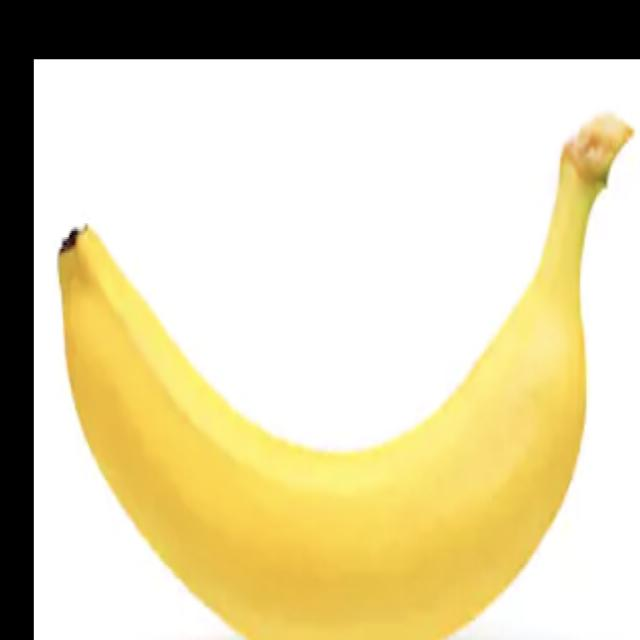Ripe: (51, 102, 634, 640)
